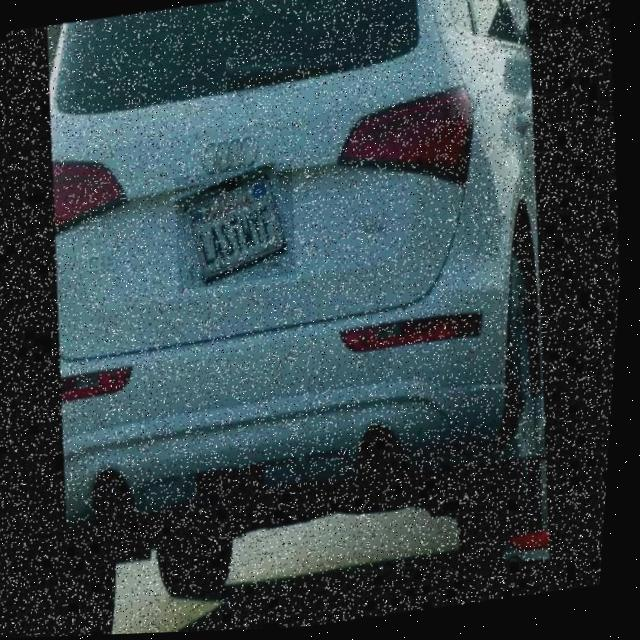LicensePlate: (170, 163, 305, 293)
